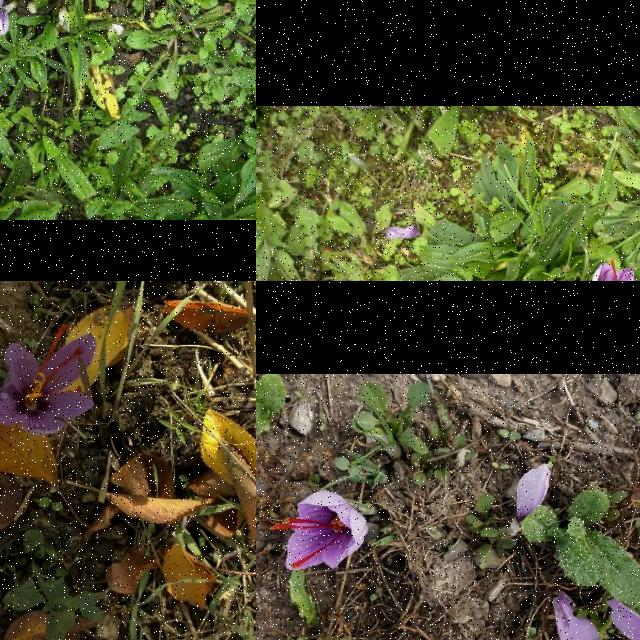flower: (0, 327, 96, 435), (272, 489, 371, 571), (516, 464, 552, 522)
